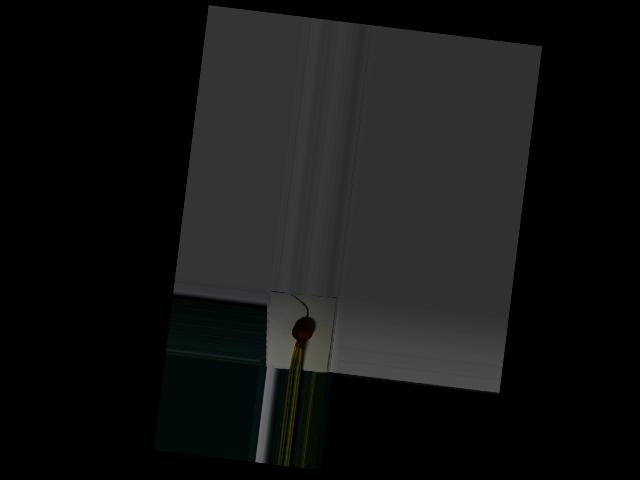beet: (282, 294, 317, 371)
